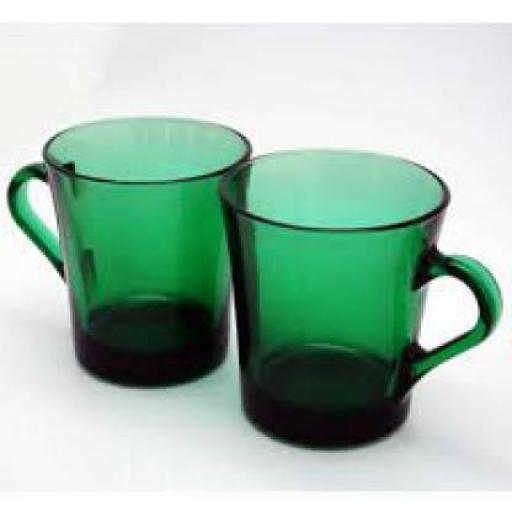glass: (221, 148, 508, 446), (9, 114, 253, 384)
